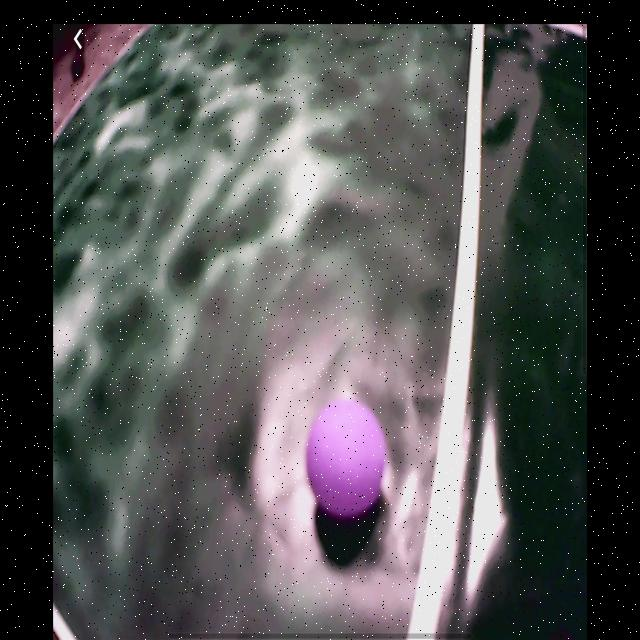ball: (307, 399, 386, 520)
